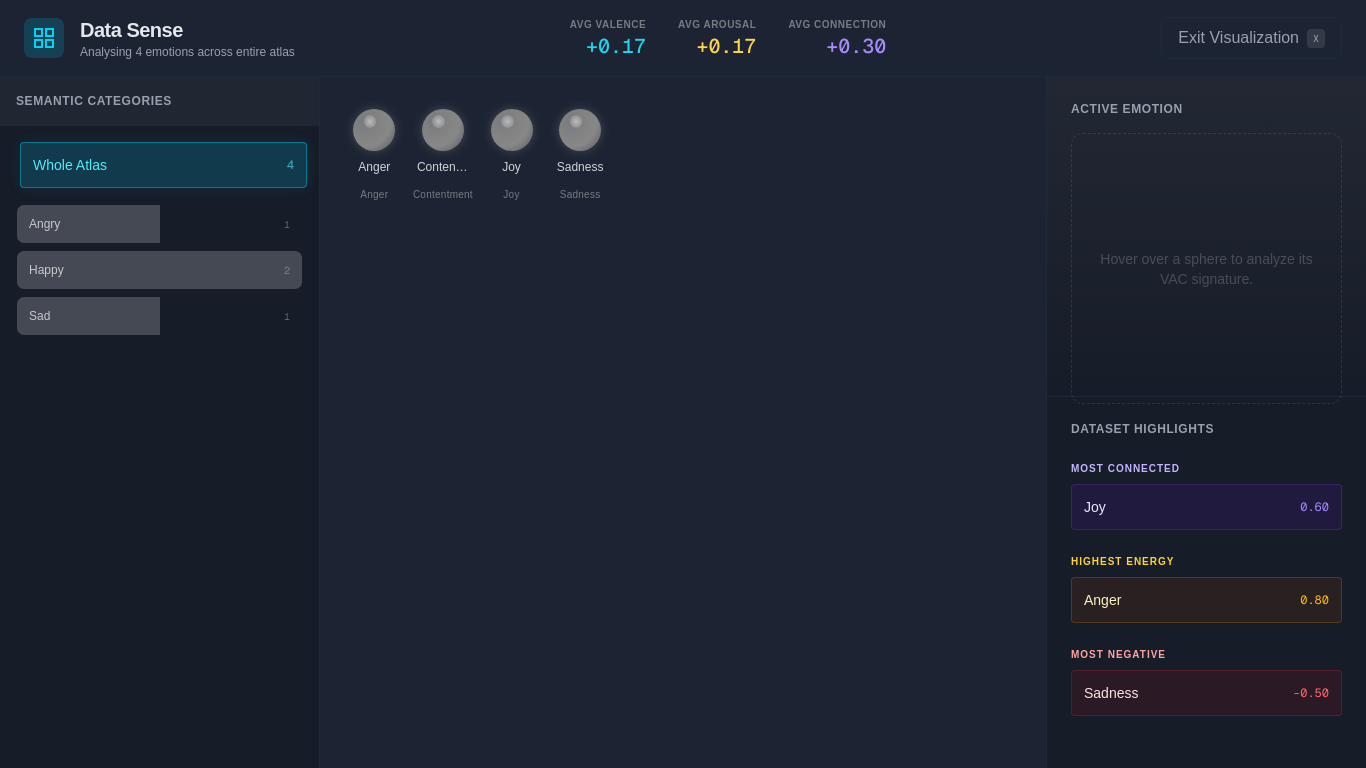
Test: DataVisualizationOverlay › toggles category selection off when clicked again
// Click Category "Happy" (Select)
Click the text "Happy".
click(46, 270)  # box 29,262 -> 64,278
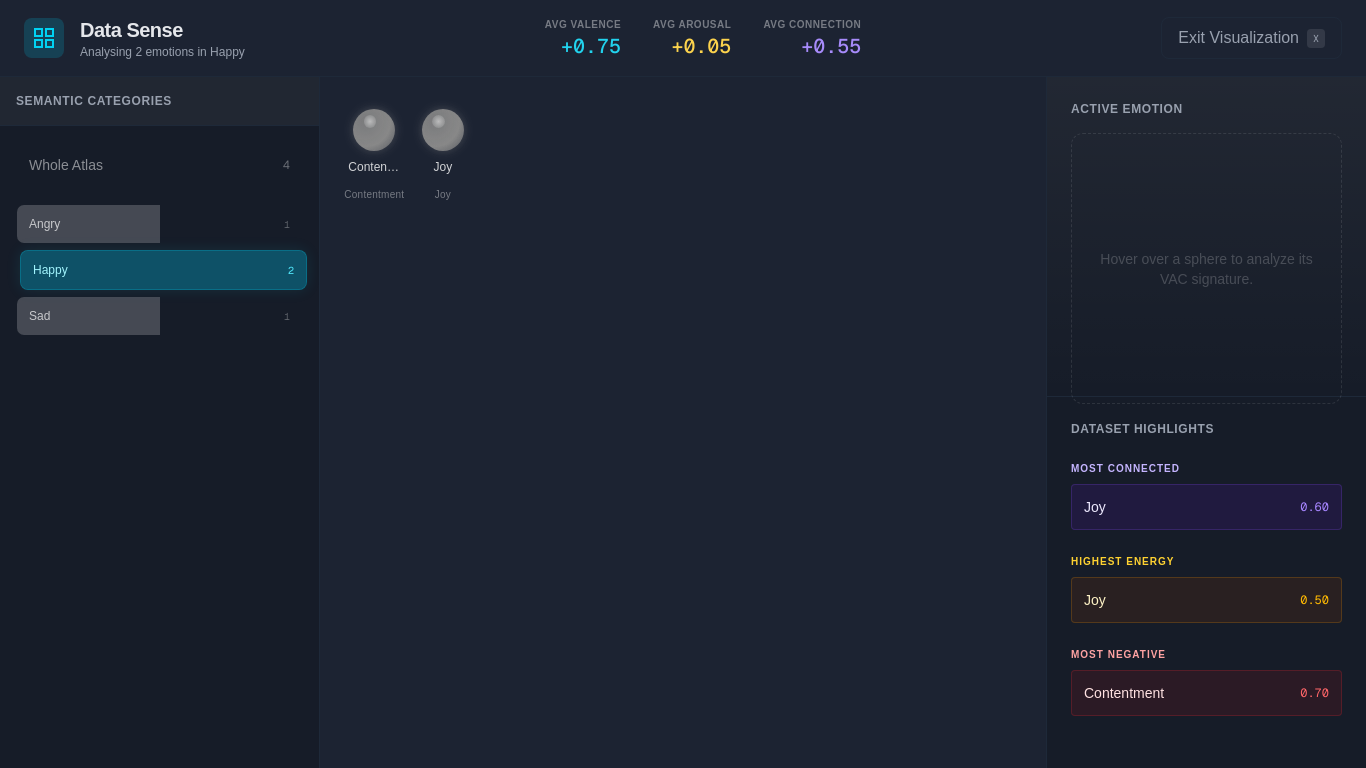
Expected: the text "Sadness" is gone
// Click Category "Happy" again (Deselect)
Click the text "Happy".
click(50, 270)  # box 33,262 -> 68,278
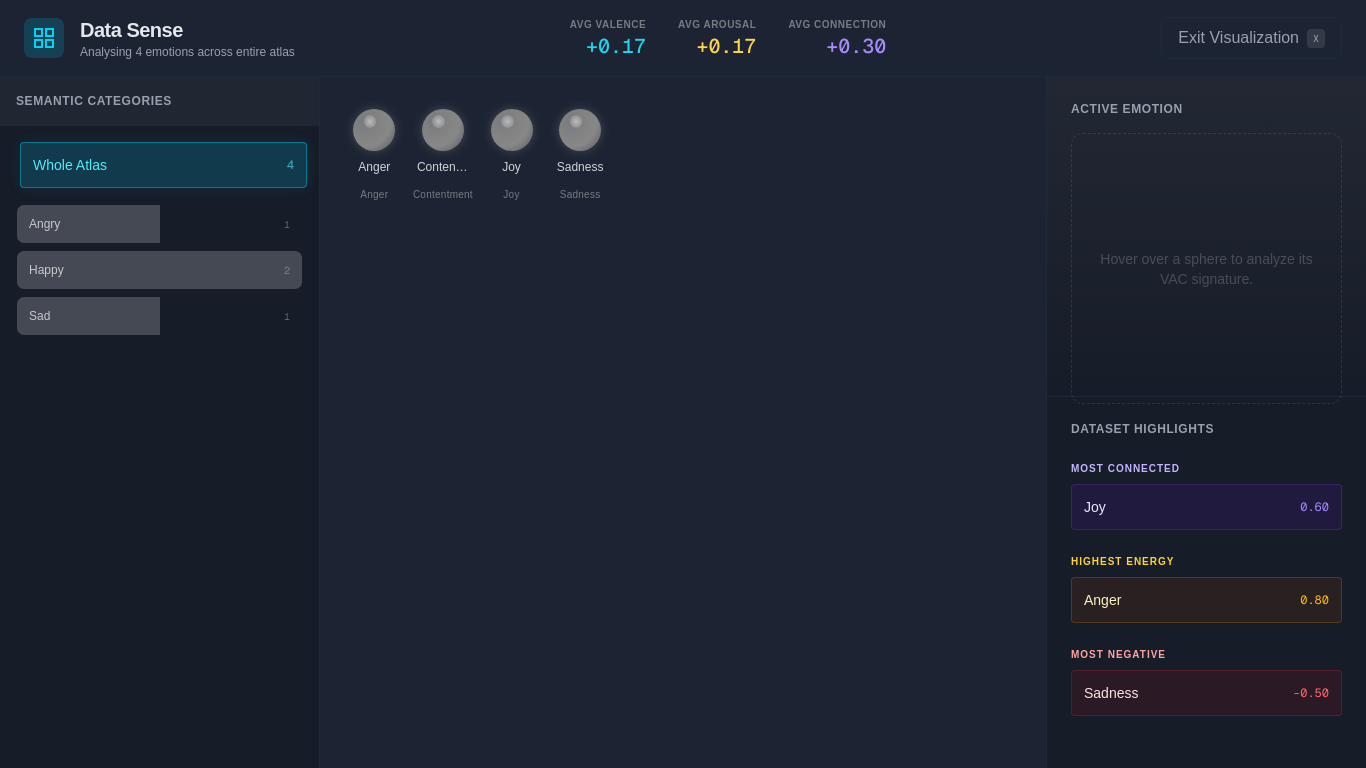
Expected: the 1st text "Sadness" is shown, 557,160 -> 603,174
